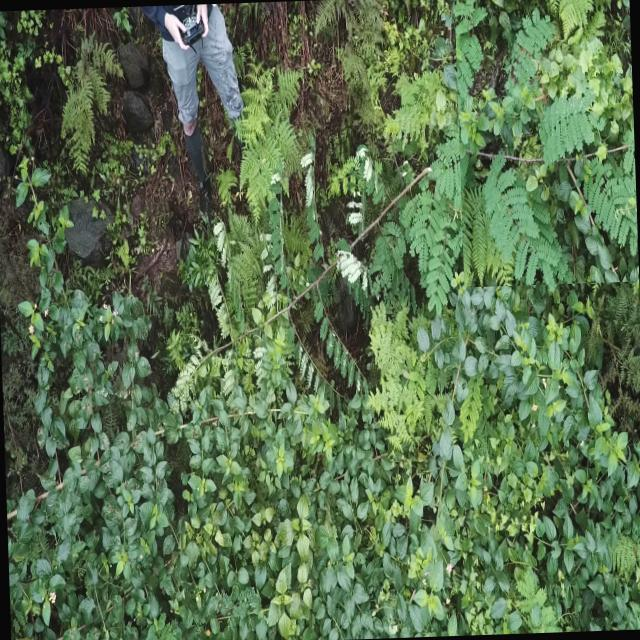Mysore-Thorn-Weed: (186, 99, 484, 400), (454, 0, 639, 287)
